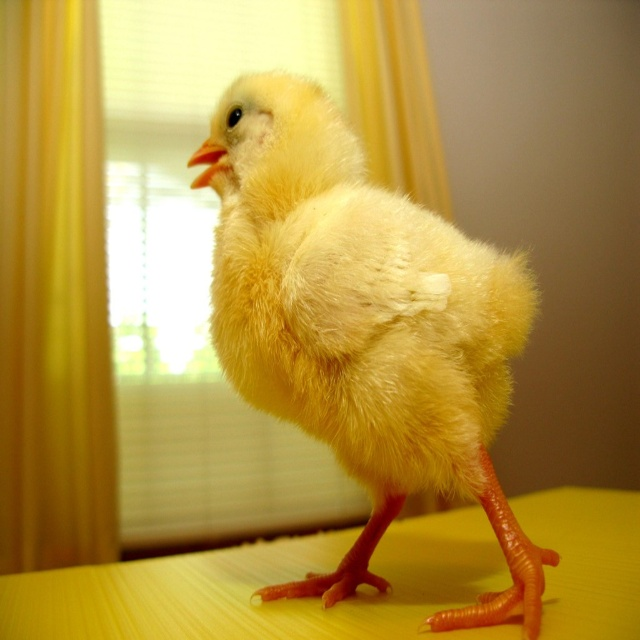Chicken: (190, 64, 532, 639)
